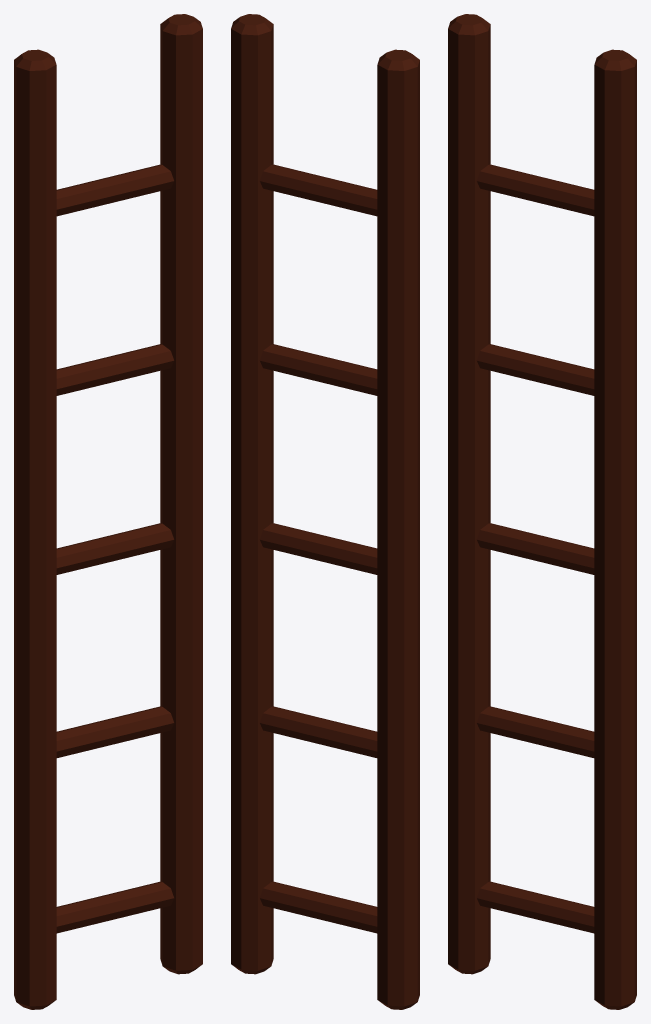
File: ladder.obj
The picture shows the model from 3 angles, left to right: view 1: azimuth 30°, elevation 25°; view 2: azimuth 150°, elevation 25°; view 3: azimuth 330°, elevation 25°; orthographic projection.
Parts seen in each view (by area): view 1: Ladder_Cube.073; view 2: Ladder_Cube.073; view 3: Ladder_Cube.073.
Boxes of the visible parts, <box> form: Ladder_Cube.073: <box>14,14,202,1009</box>; Ladder_Cube.073: <box>231,14,419,1009</box>; Ladder_Cube.073: <box>448,14,636,1009</box>.
Size of the model in its own units: 1.46 by 7.16 by 0.3005.
